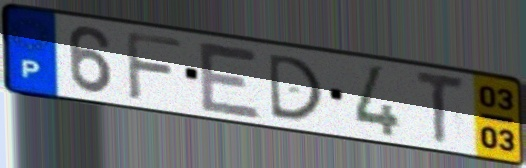4: (351, 62, 405, 141)
6: (66, 25, 115, 96)
D: (265, 51, 327, 123)
E: (195, 38, 265, 122)
F: (122, 28, 186, 105)
T: (413, 68, 468, 147)
